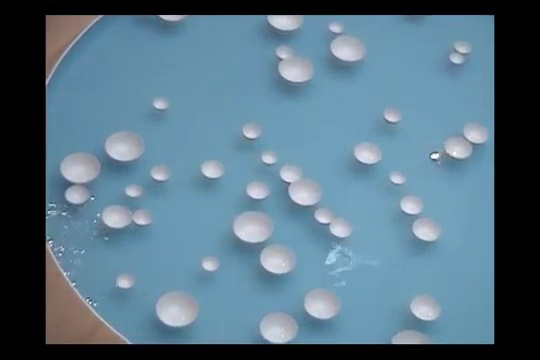bowl: (155, 291, 199, 327), (232, 211, 274, 243), (60, 152, 101, 184), (104, 131, 145, 162), (259, 312, 298, 343), (304, 289, 341, 320), (259, 244, 296, 274), (330, 35, 368, 62), (277, 57, 314, 83), (288, 179, 322, 205), (409, 294, 441, 321), (411, 218, 441, 242), (102, 205, 132, 228), (444, 136, 473, 159), (267, 14, 304, 32), (354, 142, 382, 165), (390, 329, 430, 344), (64, 184, 91, 205), (464, 123, 488, 144), (329, 217, 353, 237), (399, 195, 424, 214), (201, 160, 224, 179), (246, 181, 269, 199), (280, 165, 303, 182), (156, 13, 189, 24), (150, 165, 171, 182), (242, 123, 262, 139), (132, 209, 152, 225), (314, 208, 335, 223), (383, 108, 402, 123), (115, 274, 135, 288), (201, 256, 219, 271), (124, 184, 144, 197), (453, 41, 472, 54), (275, 45, 294, 58), (389, 171, 407, 184), (261, 151, 277, 164), (328, 22, 344, 34), (449, 52, 465, 64), (153, 98, 168, 109)
